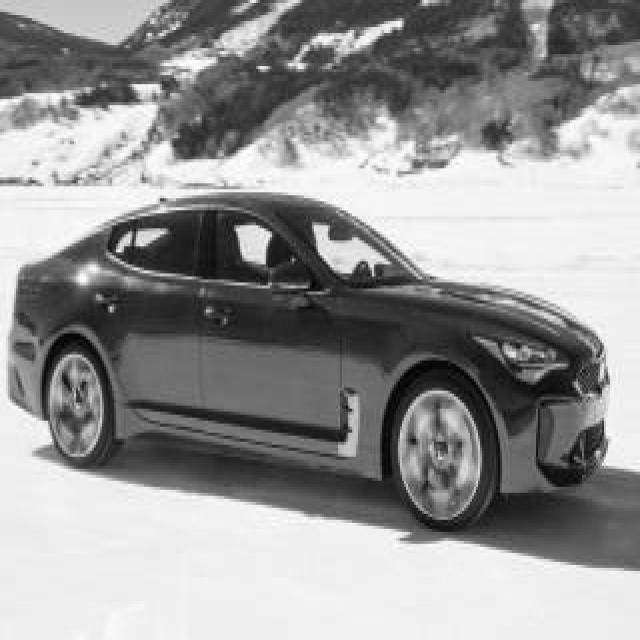Car: (9, 195, 609, 529)
